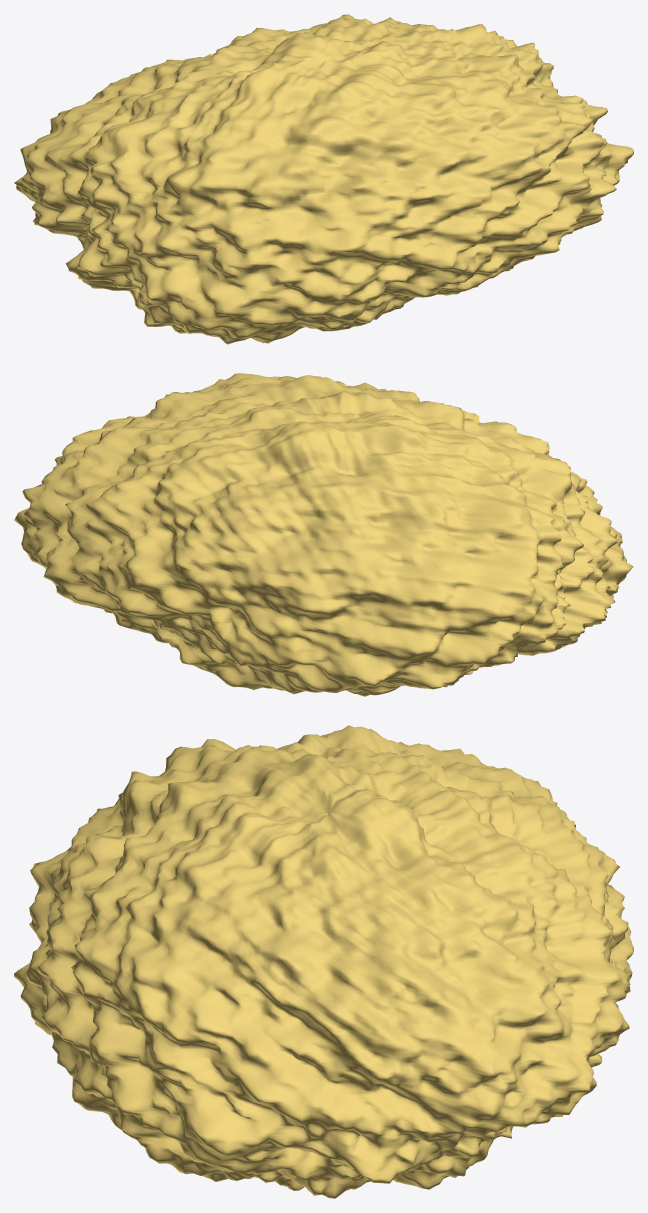
The model's file is adipose-100g.glb.
3 renders of one model, top to bottom at view 1: azimuth 30°, elevation 25°; view 2: azimuth 150°, elevation 25°; view 3: azimuth 270°, elevation 25°, orthographic. The views are drawn at different scales.
Parts seen in each view (by area): view 1: fat_lump; view 2: fat_lump; view 3: fat_lump.
Boxes of the visible parts, x1,y1,x2,y2 form: fat_lump: (14,14,633,344); fat_lump: (14,373,633,696); fat_lump: (14,725,633,1198).
Size of the model in its own units: 0.0915 by 0.038 by 0.0703.
